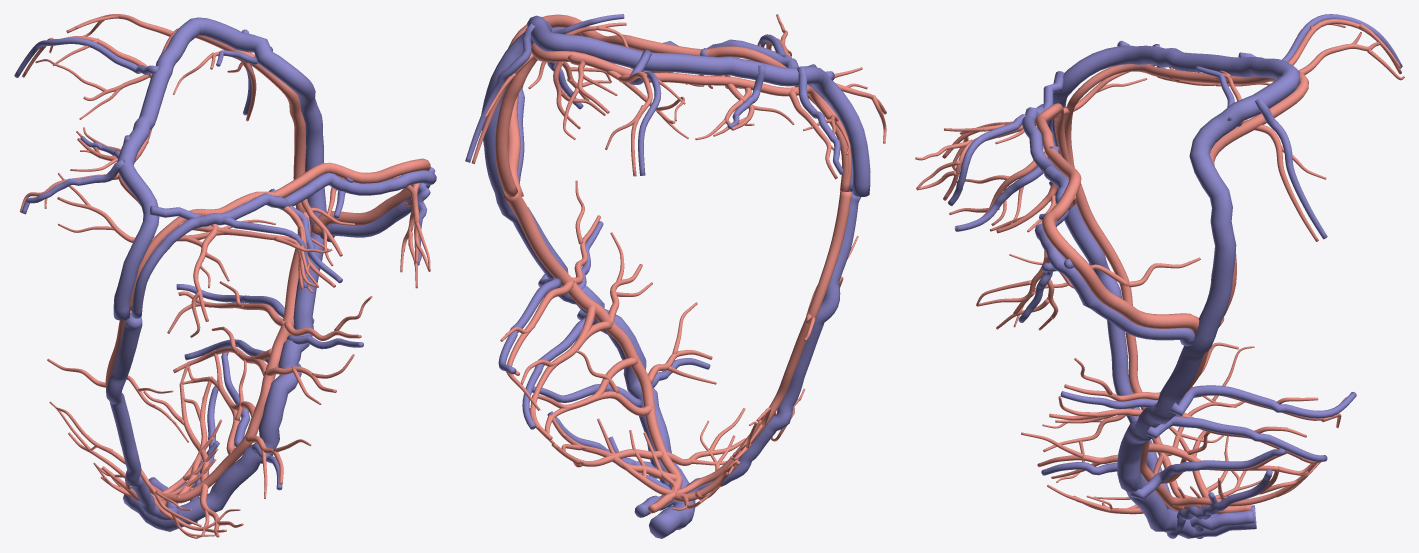
The model's file is vessels_73.glb.
3 views of the same model, side by side, from view 1: azimuth 30°, elevation 25°; view 2: azimuth 150°, elevation 25°; view 3: azimuth 270°, elevation 25° (orthographic). The views are drawn at different scales.
Visible parts, largest first — view 1: Renderer Node; view 2: Renderer Node; view 3: Renderer Node.
Boxes of the visible parts, x1,y1,x2,y2 form: Renderer Node: (14,14,436,538); Renderer Node: (465,14,886,538); Renderer Node: (915,14,1404,538).
Size of the model in its own units: 98.86 by 122 by 106.
